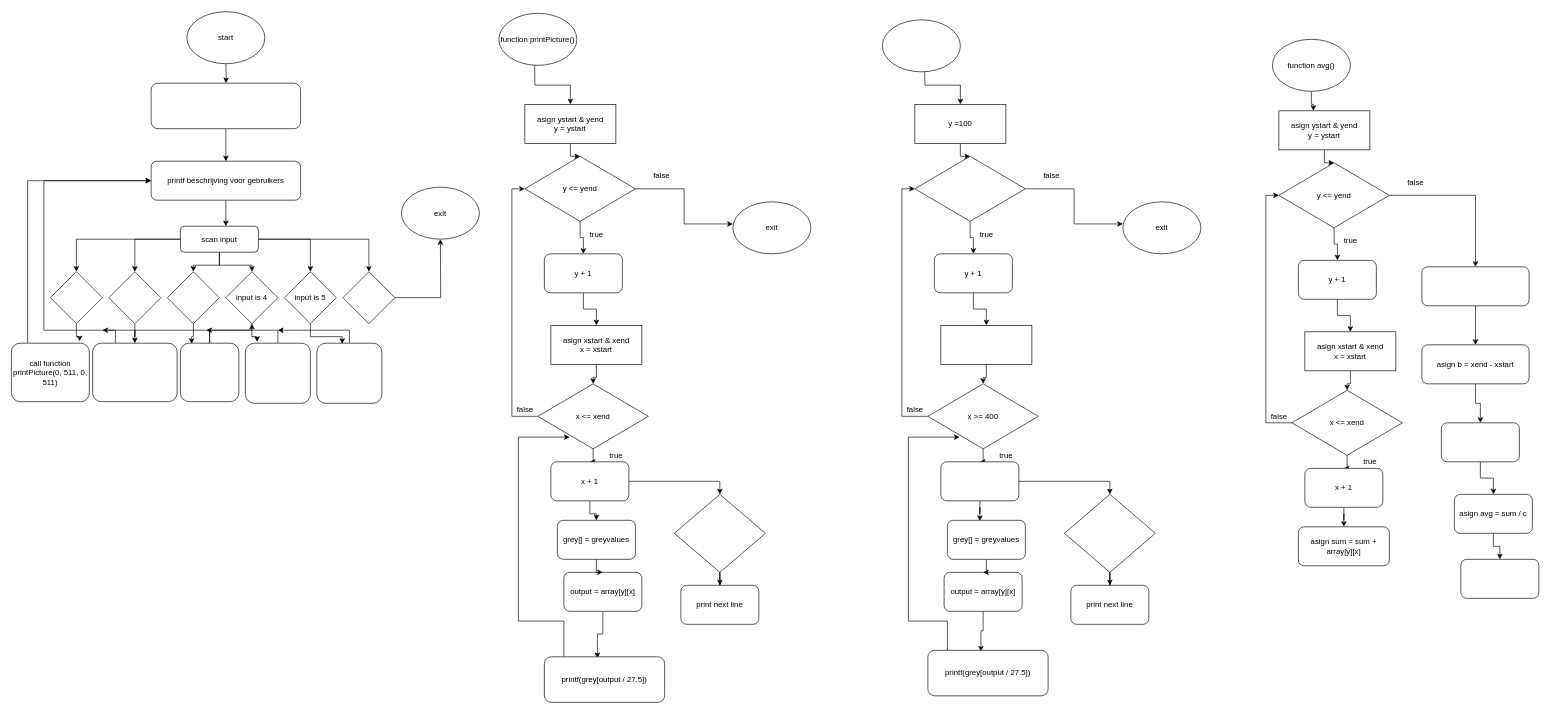
This 1550x714 diagram has some shape labels left out. The shapes that lost their labels are listed below. From the top down, each one's centre as x and y in pixels, then its label:
point 921,45: function printReverse()
point 225,106: declare funtions avg(), printPicture(), printReverse()
point 969,188: y <= 400
point 76,297: input is 1
point 134,297: input is 2
point 193,297: input is 3
point 368,297: else
point 1475,286: asign a = yend - ystart
point 986,344: x = 100
point 134,372: call function printPicture(100, 400, 100, 400)
point 209,372: call function printReverse();
point 277,373: call function avg(0, 511, 0, 511);
point 349,373: call function avg(100, 400, 100, 400);
point 1480,442: asign c = a * b
point 979,481: x - 1
point 719,533: x == xend
point 1109,533: x == 100
point 1499,578: print avg
